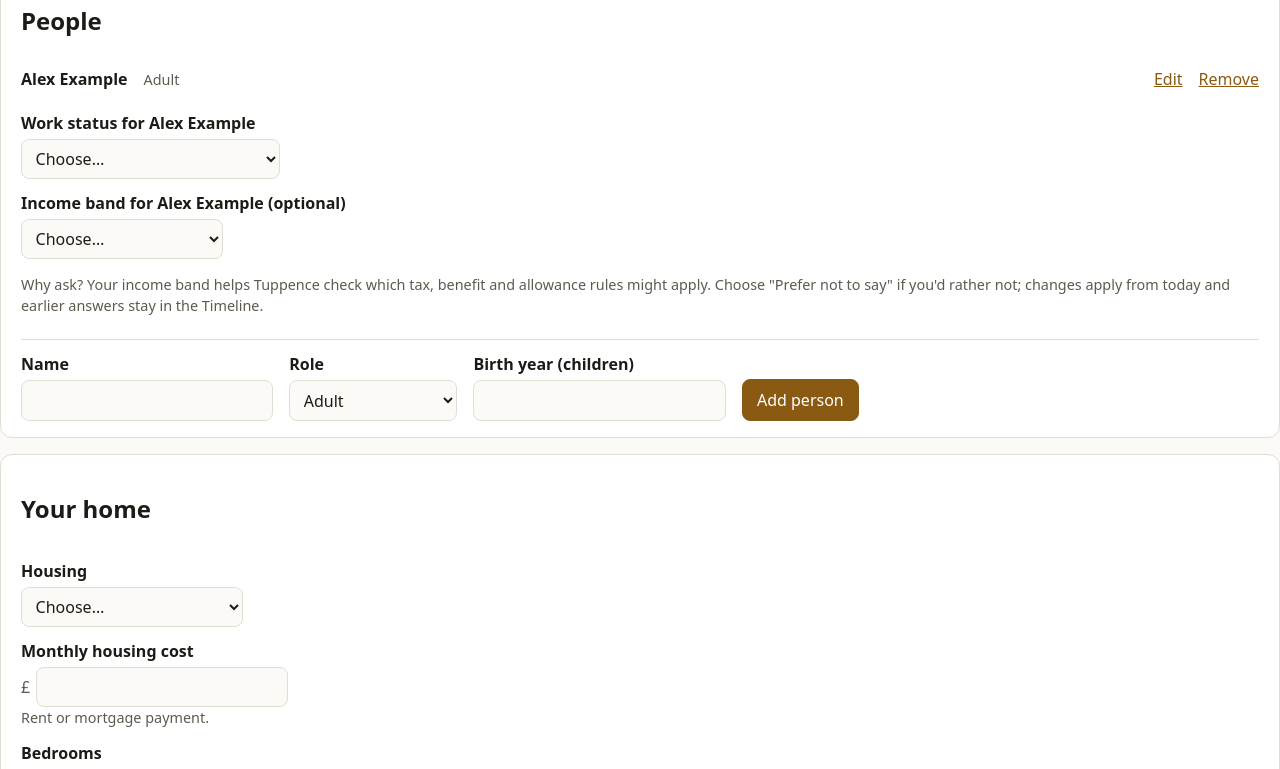
Test: lists people and adds a new person
(page scrolled)
Expected: the text "Alex Example" is shown, x1=21 y1=67 x2=128 y2=91
In the field labelled "Name": (147, 400) x1=21 y1=380 x2=273 y2=421, type "Kid A"
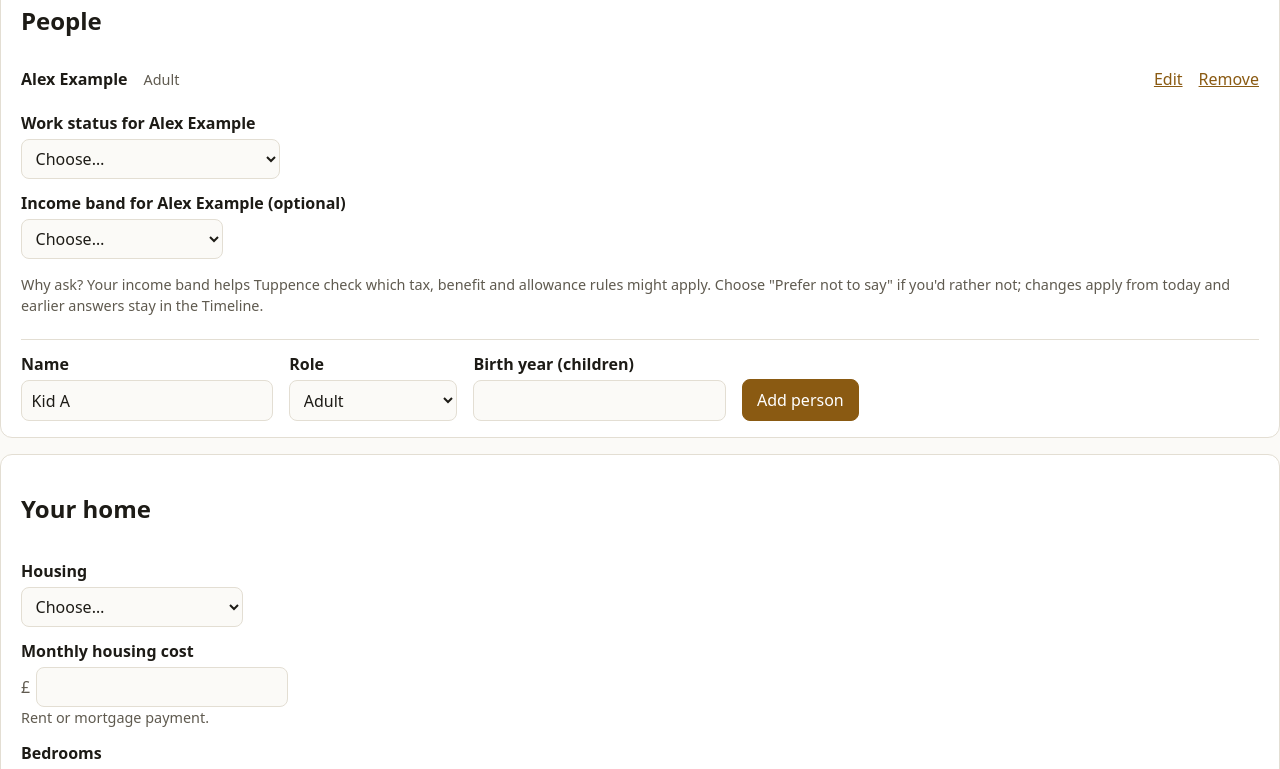
Select "Child" in the dropdown labelled "Role": (373, 400) x1=289 y1=380 x2=457 y2=421
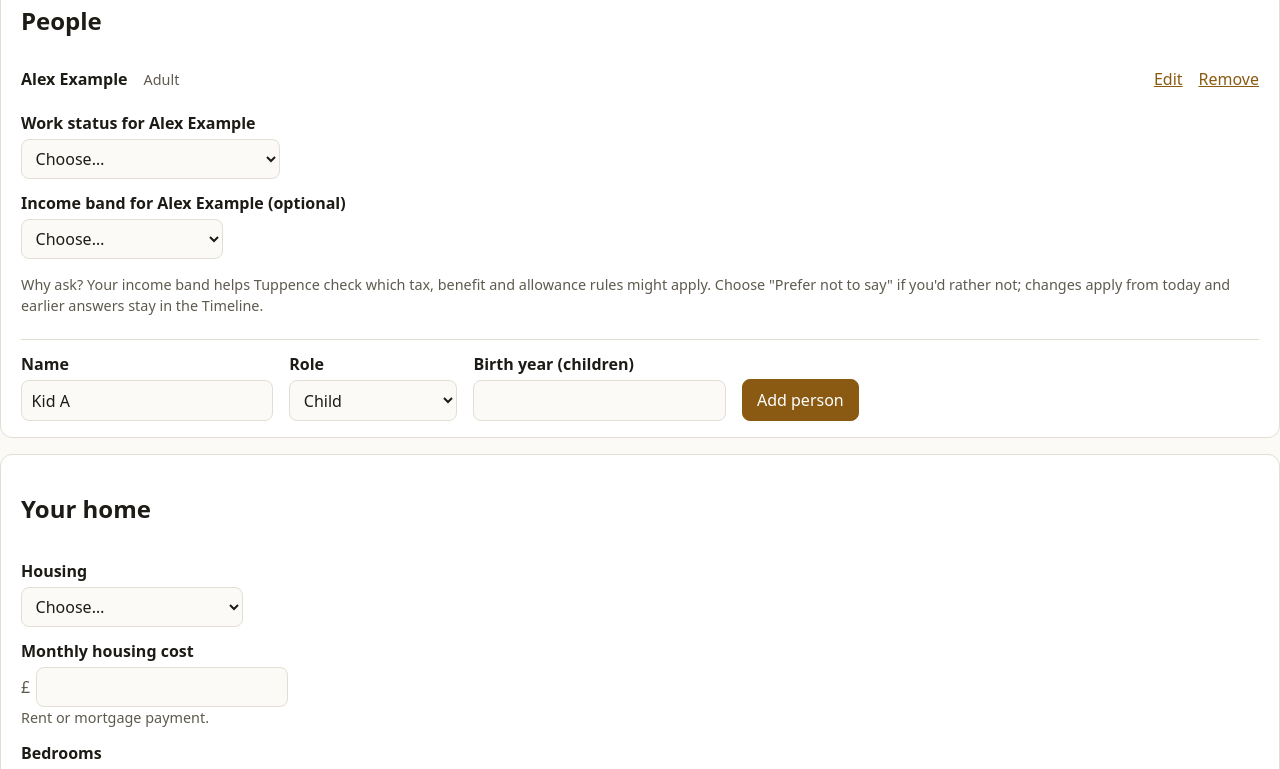
Click the button "Add person": (800, 400) x1=742 y1=379 x2=859 y2=421
(page scrolled)
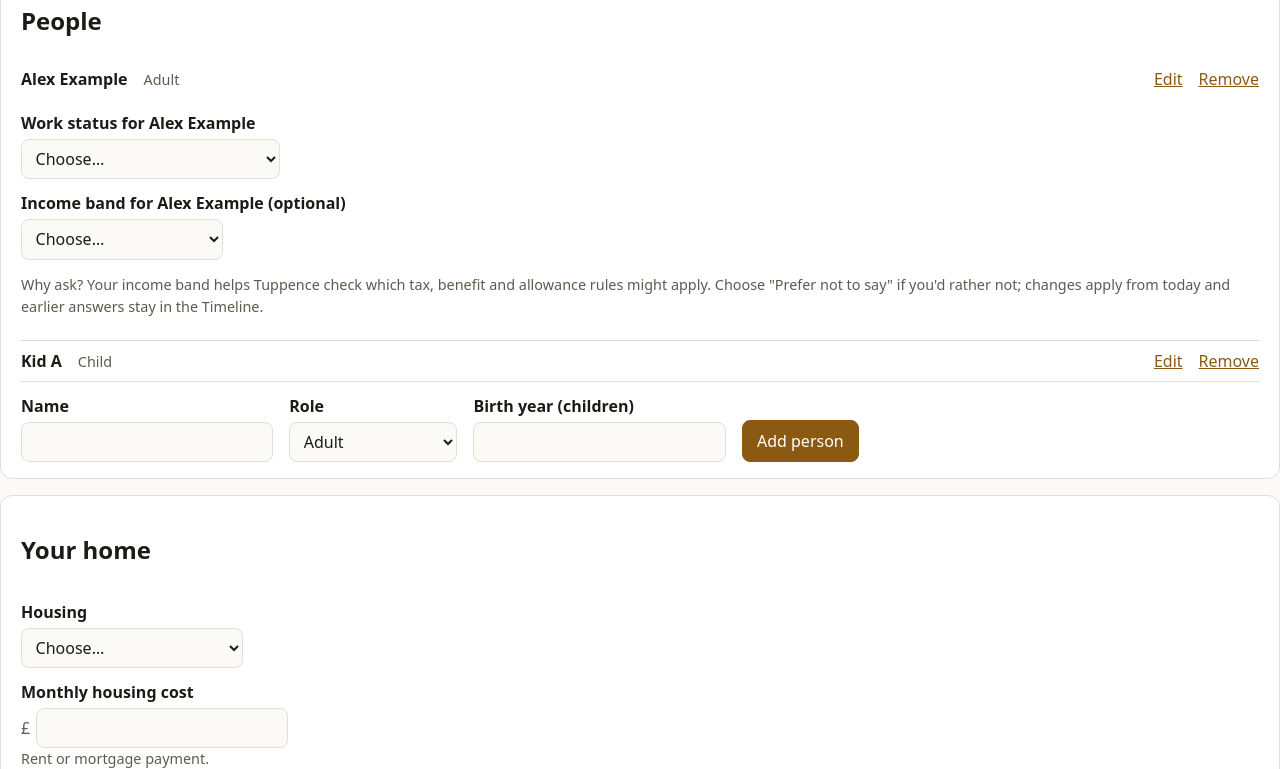
Now the text "Kid A" is shown, box x1=21 y1=348 x2=62 y2=372
